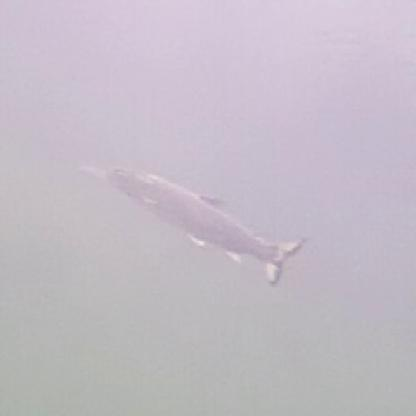salmon: (104, 163, 309, 284)
